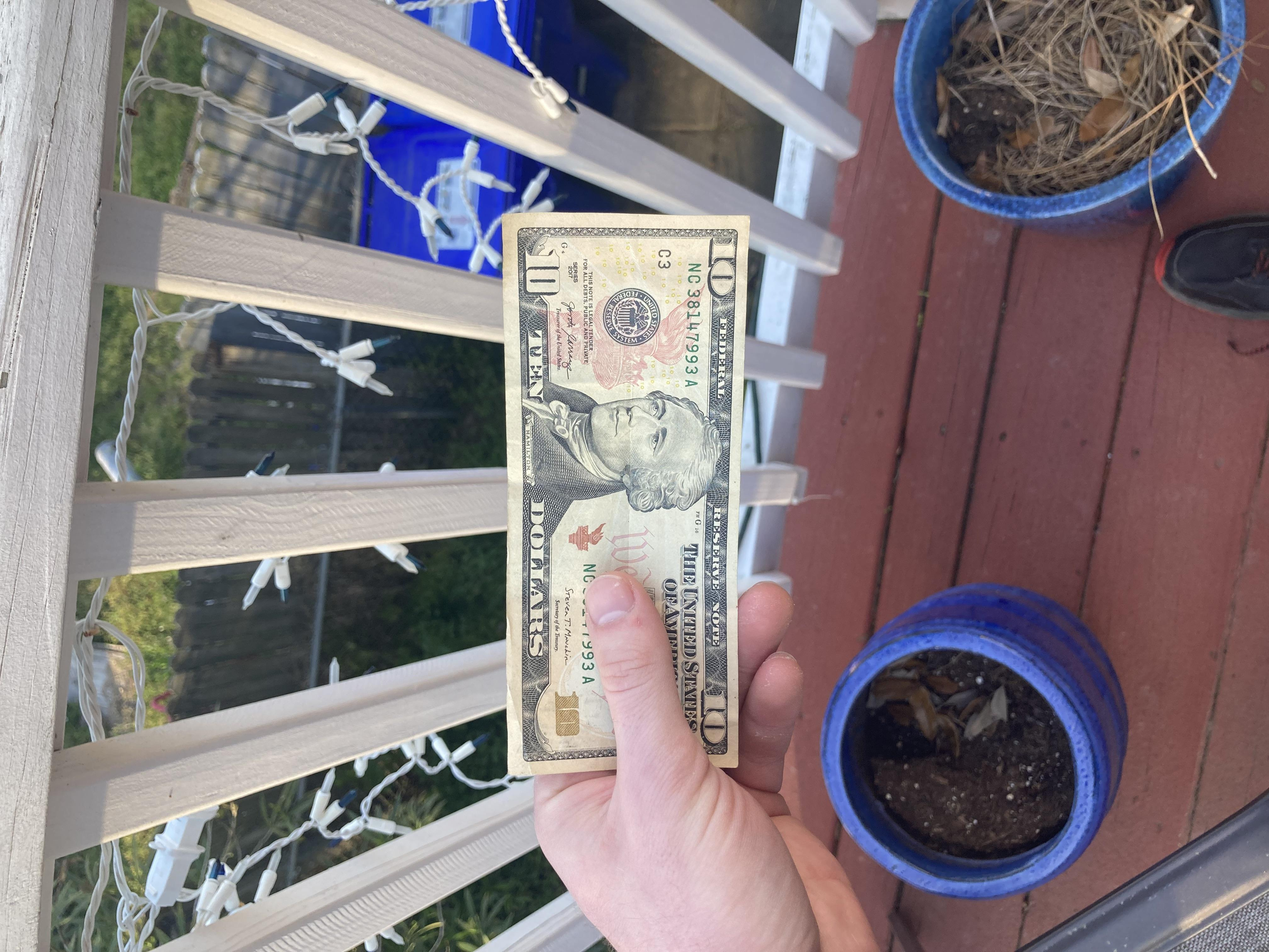ten-front: (243, 377, 984, 558)
